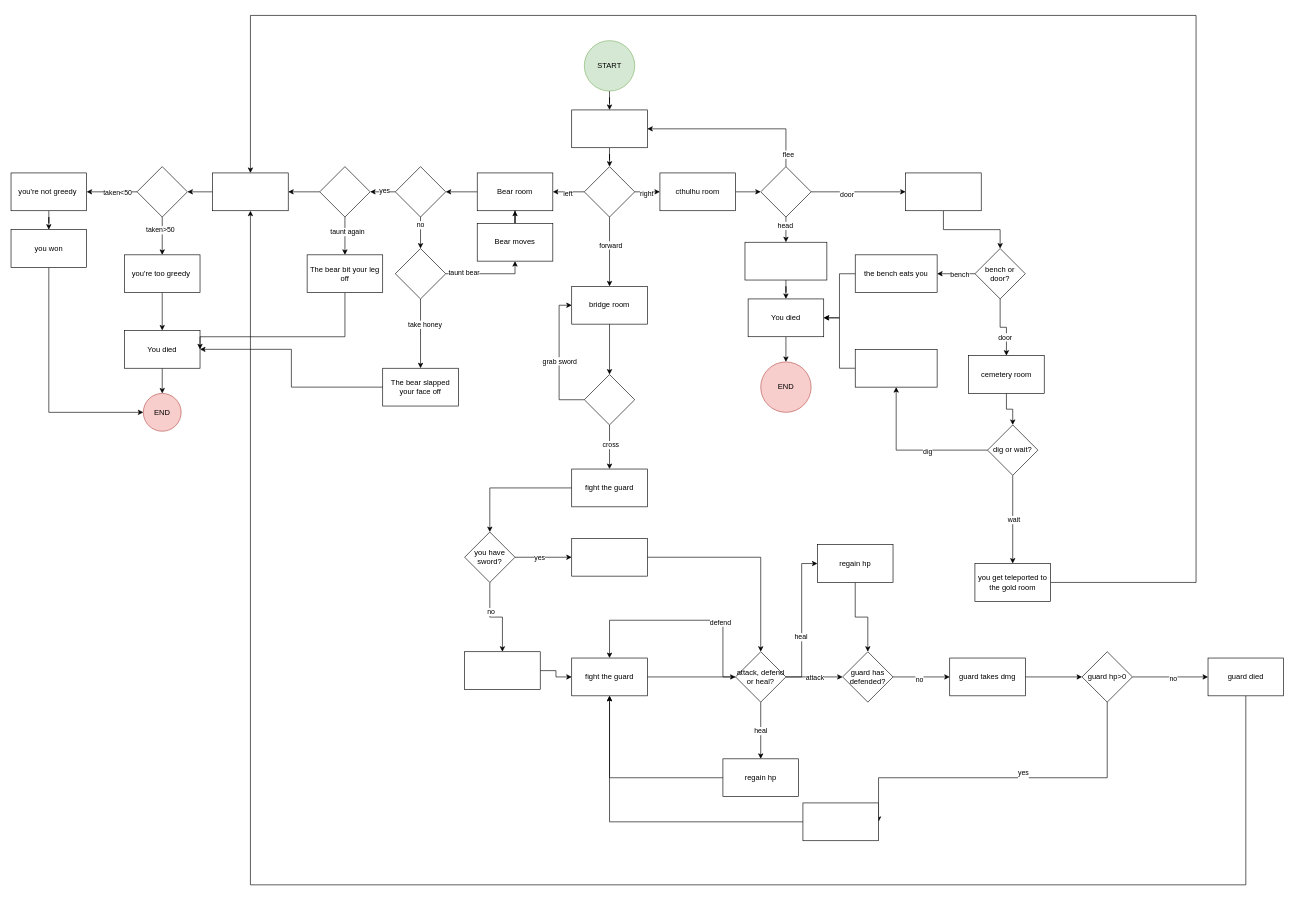
This 1295x901 diagram has some shape labels left out. The centre of each missing label's shape, as x and y in pixels:
Bear moved?: (x=420, y=191)
First room: (x=609, y=128)
Flee,head or door?: (x=785, y=191)
Garden room: (x=943, y=191)
grab sword or cross?: (x=609, y=399)
guard still alive: (x=840, y=821)
Left, right or forward?: (x=609, y=191)
taken gold >50: (x=161, y=191)
Taunt bear or take honey: (x=420, y=273)
Taunt or open door: (x=344, y=191)
the corpse strangles you to death: (x=896, y=368)
Treasure room: (x=250, y=191)
you ate your own face: (x=785, y=261)
you do 1 dmg: (x=502, y=670)
you do 2 dmg: (x=609, y=557)
